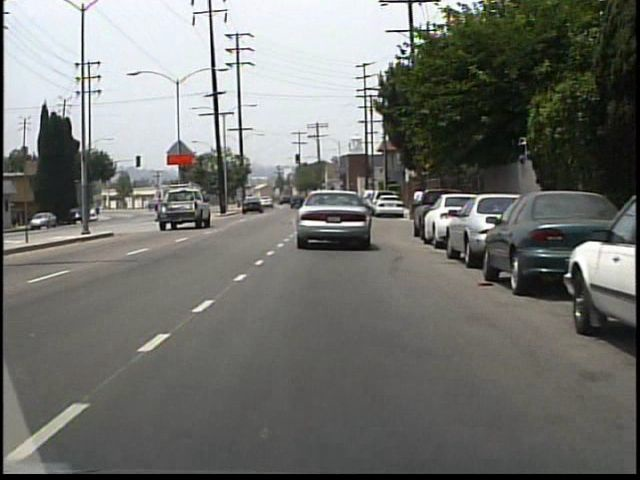person: (411, 183, 428, 226)
